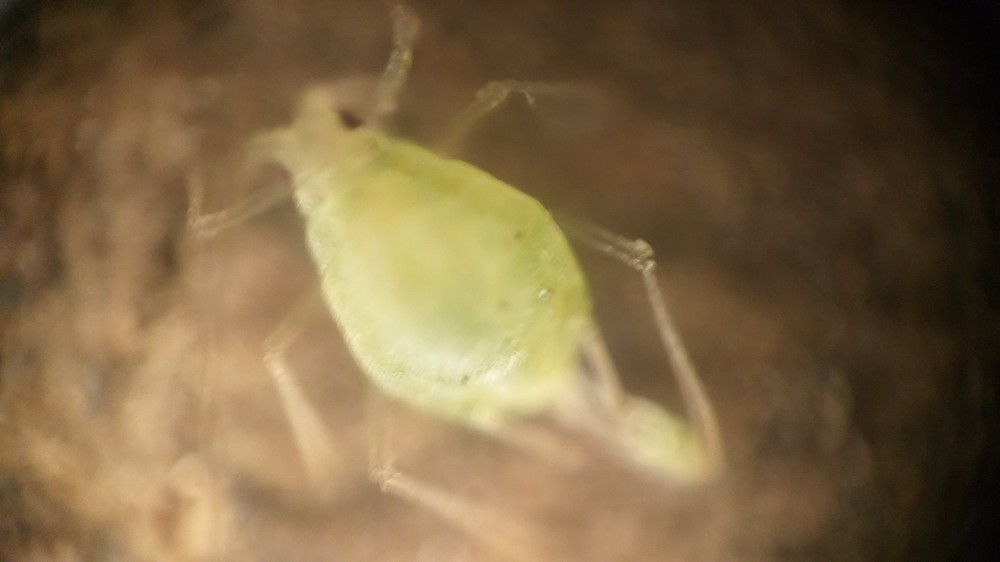Pulgon: (150, 3, 761, 517)
